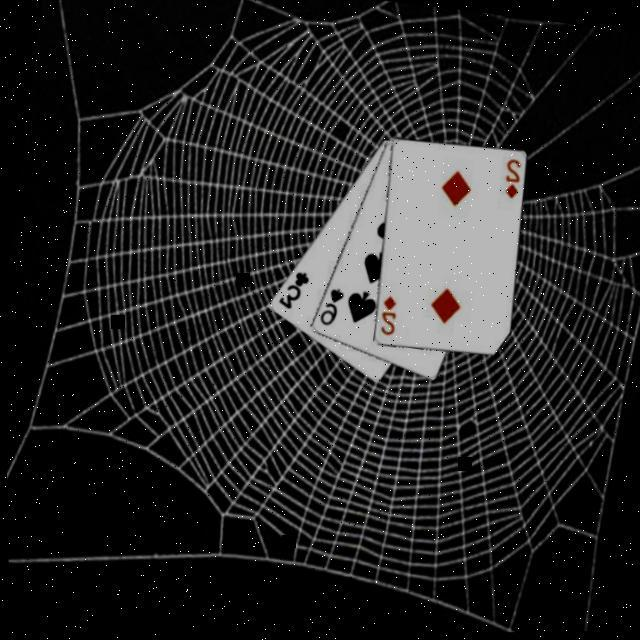2D: (376, 293, 403, 339), (500, 156, 527, 202)
3C: (275, 266, 314, 314)
9S: (316, 283, 349, 330)
